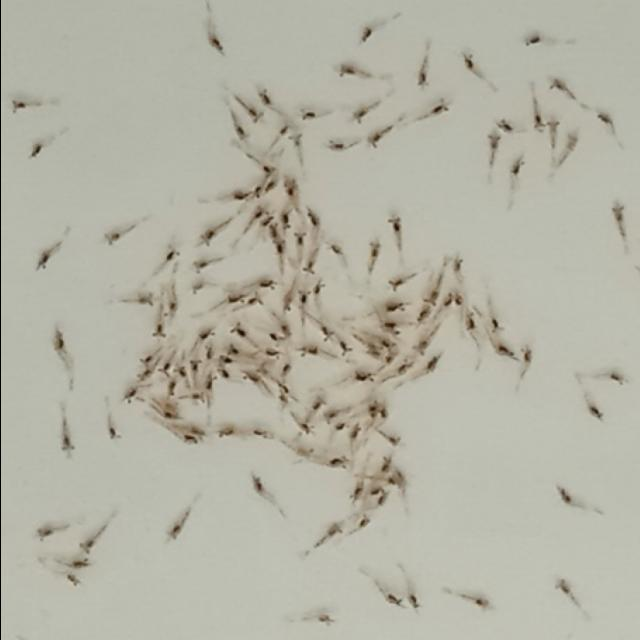shrimp-seed: (428, 94, 460, 124), (334, 59, 368, 86), (466, 590, 496, 620), (200, 32, 232, 58), (52, 433, 76, 467), (33, 242, 61, 270), (459, 47, 486, 76), (550, 572, 580, 598), (46, 326, 72, 356), (100, 224, 130, 250), (310, 605, 342, 629), (350, 102, 382, 125), (604, 199, 632, 225), (353, 20, 379, 48), (325, 134, 357, 156), (517, 28, 546, 52), (603, 367, 629, 393), (160, 518, 186, 544), (411, 64, 437, 90), (379, 588, 404, 614), (8, 93, 34, 117), (241, 100, 267, 124), (253, 86, 280, 109), (584, 399, 608, 424), (318, 522, 343, 546), (366, 127, 392, 149), (411, 334, 437, 356), (591, 109, 619, 129), (366, 238, 387, 264), (276, 290, 297, 316), (554, 482, 574, 509), (395, 354, 417, 378), (334, 336, 358, 358), (301, 255, 323, 279), (492, 342, 518, 362), (311, 277, 331, 303), (26, 138, 49, 160), (298, 341, 321, 363), (564, 129, 582, 157), (382, 276, 407, 296), (385, 212, 405, 237), (212, 420, 237, 440), (66, 556, 97, 572), (34, 524, 56, 546), (484, 133, 506, 155), (423, 354, 445, 376), (232, 120, 254, 142), (196, 228, 218, 250), (528, 110, 548, 134), (420, 286, 444, 306), (328, 452, 352, 472), (248, 476, 272, 496), (302, 204, 322, 228), (240, 369, 266, 387), (518, 344, 538, 366), (460, 310, 480, 332), (272, 124, 294, 144), (247, 423, 270, 442), (548, 78, 572, 96), (296, 289, 314, 313), (282, 177, 300, 201), (325, 239, 346, 259), (315, 321, 335, 342), (408, 590, 427, 612), (278, 208, 294, 234), (291, 132, 311, 152), (272, 236, 292, 256), (148, 320, 168, 340), (489, 315, 507, 337), (449, 254, 467, 276), (354, 514, 376, 532), (292, 442, 314, 460), (63, 574, 87, 590), (380, 300, 404, 316), (174, 434, 198, 450), (306, 393, 326, 412), (248, 204, 268, 223), (386, 431, 404, 452), (349, 368, 372, 384), (379, 318, 402, 334), (78, 536, 98, 554), (301, 104, 321, 122), (414, 304, 432, 324), (348, 420, 366, 440), (228, 320, 246, 340), (164, 242, 182, 262), (138, 288, 156, 308), (132, 366, 152, 384), (102, 426, 124, 442), (380, 352, 400, 369), (442, 291, 457, 313), (377, 456, 395, 474), (296, 419, 314, 437), (292, 228, 310, 246), (546, 118, 562, 138), (511, 156, 527, 176), (362, 344, 382, 360), (188, 423, 208, 439), (196, 324, 216, 340), (226, 289, 246, 305), (228, 184, 248, 200), (167, 378, 180, 402), (256, 163, 278, 177), (156, 362, 172, 381), (332, 419, 352, 434), (392, 467, 408, 485), (363, 400, 381, 416), (324, 408, 340, 426), (280, 322, 298, 338), (202, 372, 218, 390), (247, 292, 265, 308), (257, 278, 277, 292), (192, 259, 210, 274), (279, 362, 295, 378), (266, 225, 282, 241), (162, 301, 178, 317), (136, 352, 152, 368), (368, 482, 383, 499), (273, 396, 291, 410), (189, 358, 203, 376), (374, 494, 390, 509), (376, 336, 396, 348), (158, 410, 178, 422), (264, 331, 282, 344), (203, 344, 216, 362), (190, 388, 206, 402), (262, 179, 278, 193), (249, 184, 263, 200), (275, 382, 293, 394), (264, 346, 282, 358), (215, 367, 233, 379), (378, 407, 392, 422), (174, 362, 188, 376), (219, 354, 235, 366), (191, 283, 207, 295), (125, 388, 137, 404), (386, 476, 398, 491), (227, 342, 239, 357), (454, 292, 466, 306), (260, 216, 274, 228)
